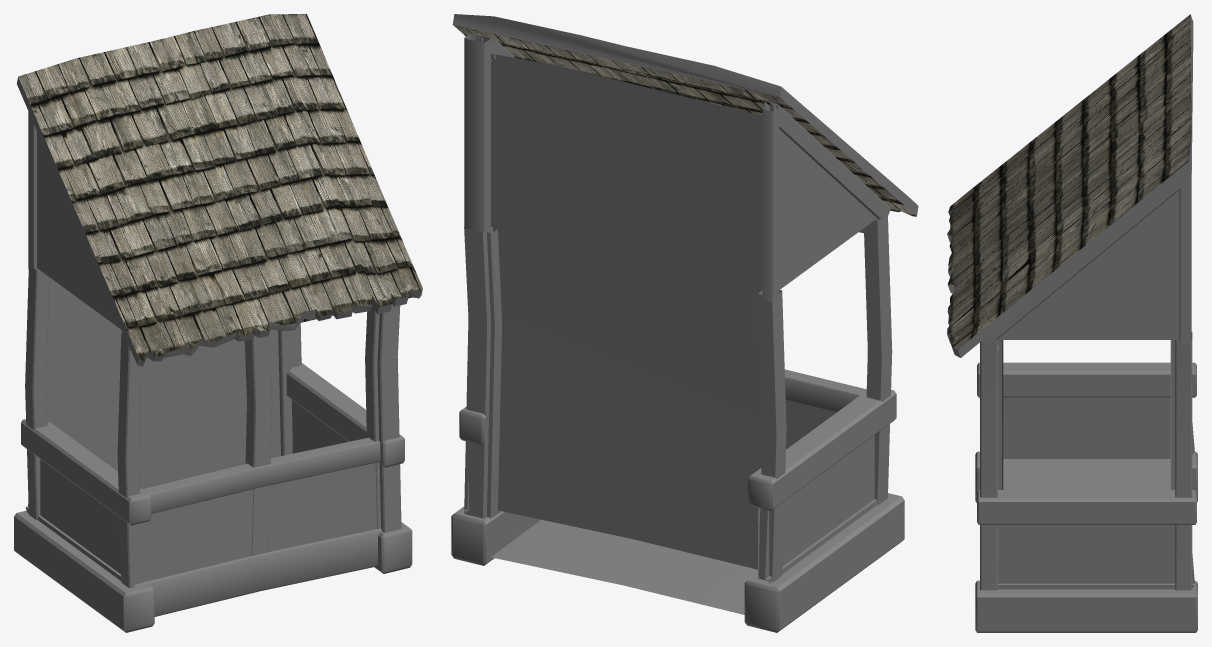
File: balcony_2_lod.fbx
3 renders of one model, left to right at view 1: azimuth 30°, elevation 25°; view 2: azimuth 150°, elevation 25°; view 3: azimuth 270°, elevation 25°, orthographic. The views are drawn at different scales.
Visible parts, largest first — view 1: Mesh; view 2: Mesh; view 3: Mesh.
Boxes of the visible parts, x1=… form: Mesh: x1=14, y1=14, x2=422, y2=632; Mesh: x1=451, y1=14, x2=918, y2=632; Mesh: x1=947, y1=14, x2=1197, y2=632.
Bounding box in the file's own units: 380 × 609 × 286.
